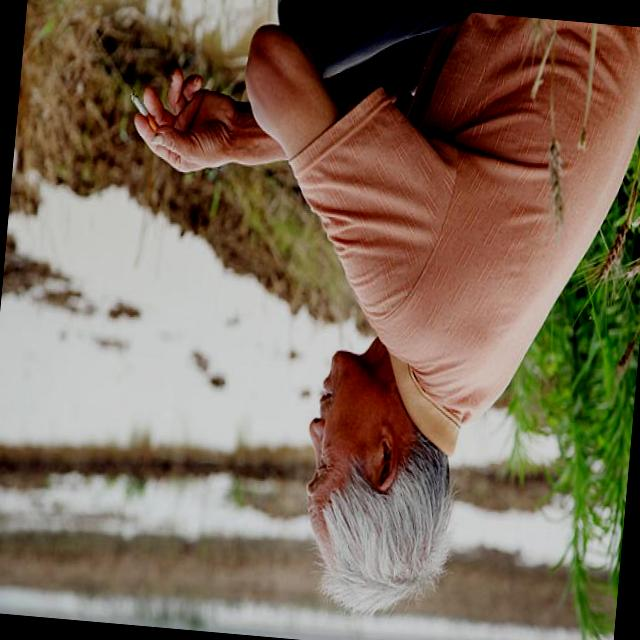cigarette: (122, 91, 168, 138)
